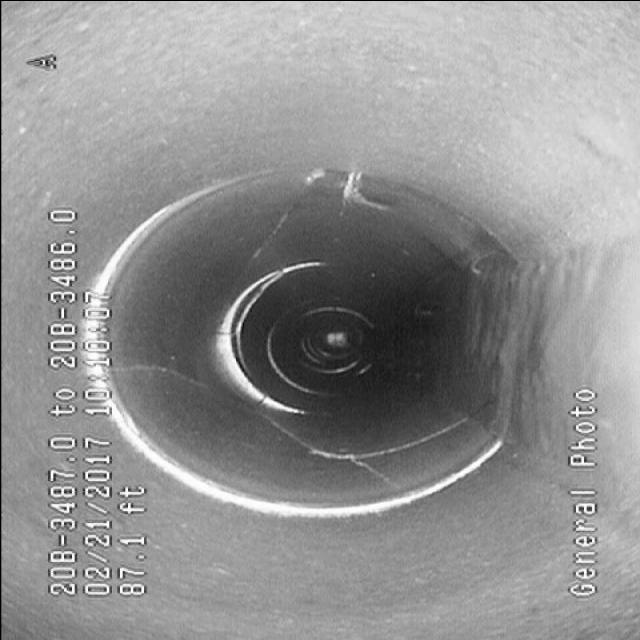Crack: (284, 411, 464, 495)
